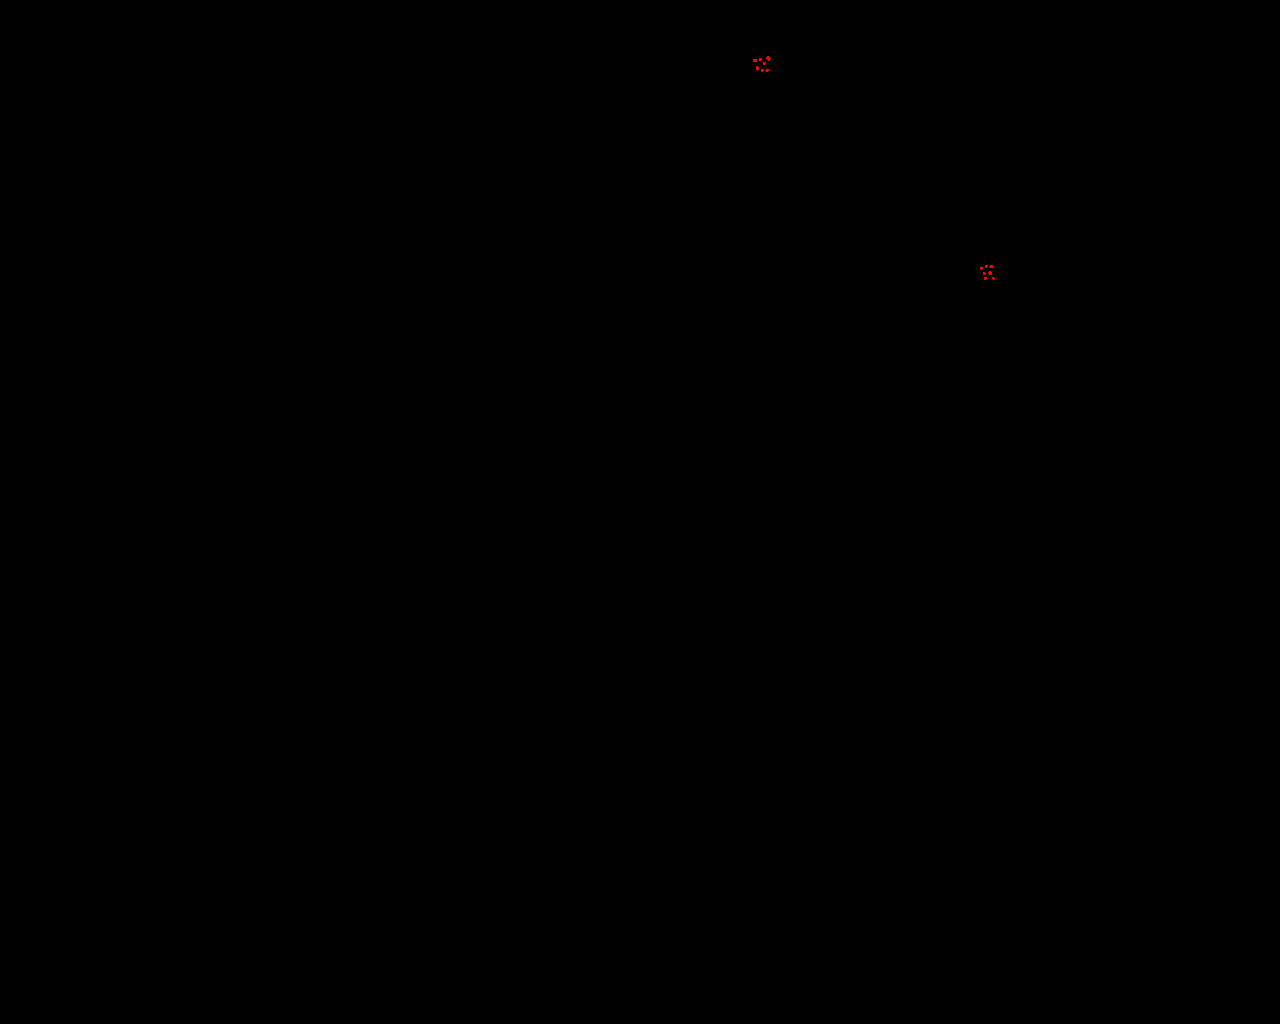Target: (766, 56, 771, 61), (765, 69, 769, 72), (988, 271, 992, 275), (757, 66, 759, 71), (753, 59, 757, 62), (763, 62, 766, 65), (761, 69, 764, 72), (983, 272, 986, 275), (984, 277, 987, 280), (992, 277, 995, 280), (759, 59, 762, 61), (985, 265, 988, 267), (990, 265, 993, 267), (980, 267, 983, 270)
